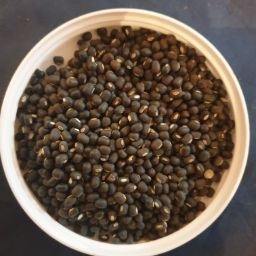Black Gram(urad daal): (21, 24, 236, 243), (32, 48, 230, 158), (16, 128, 212, 232), (68, 70, 174, 186)
